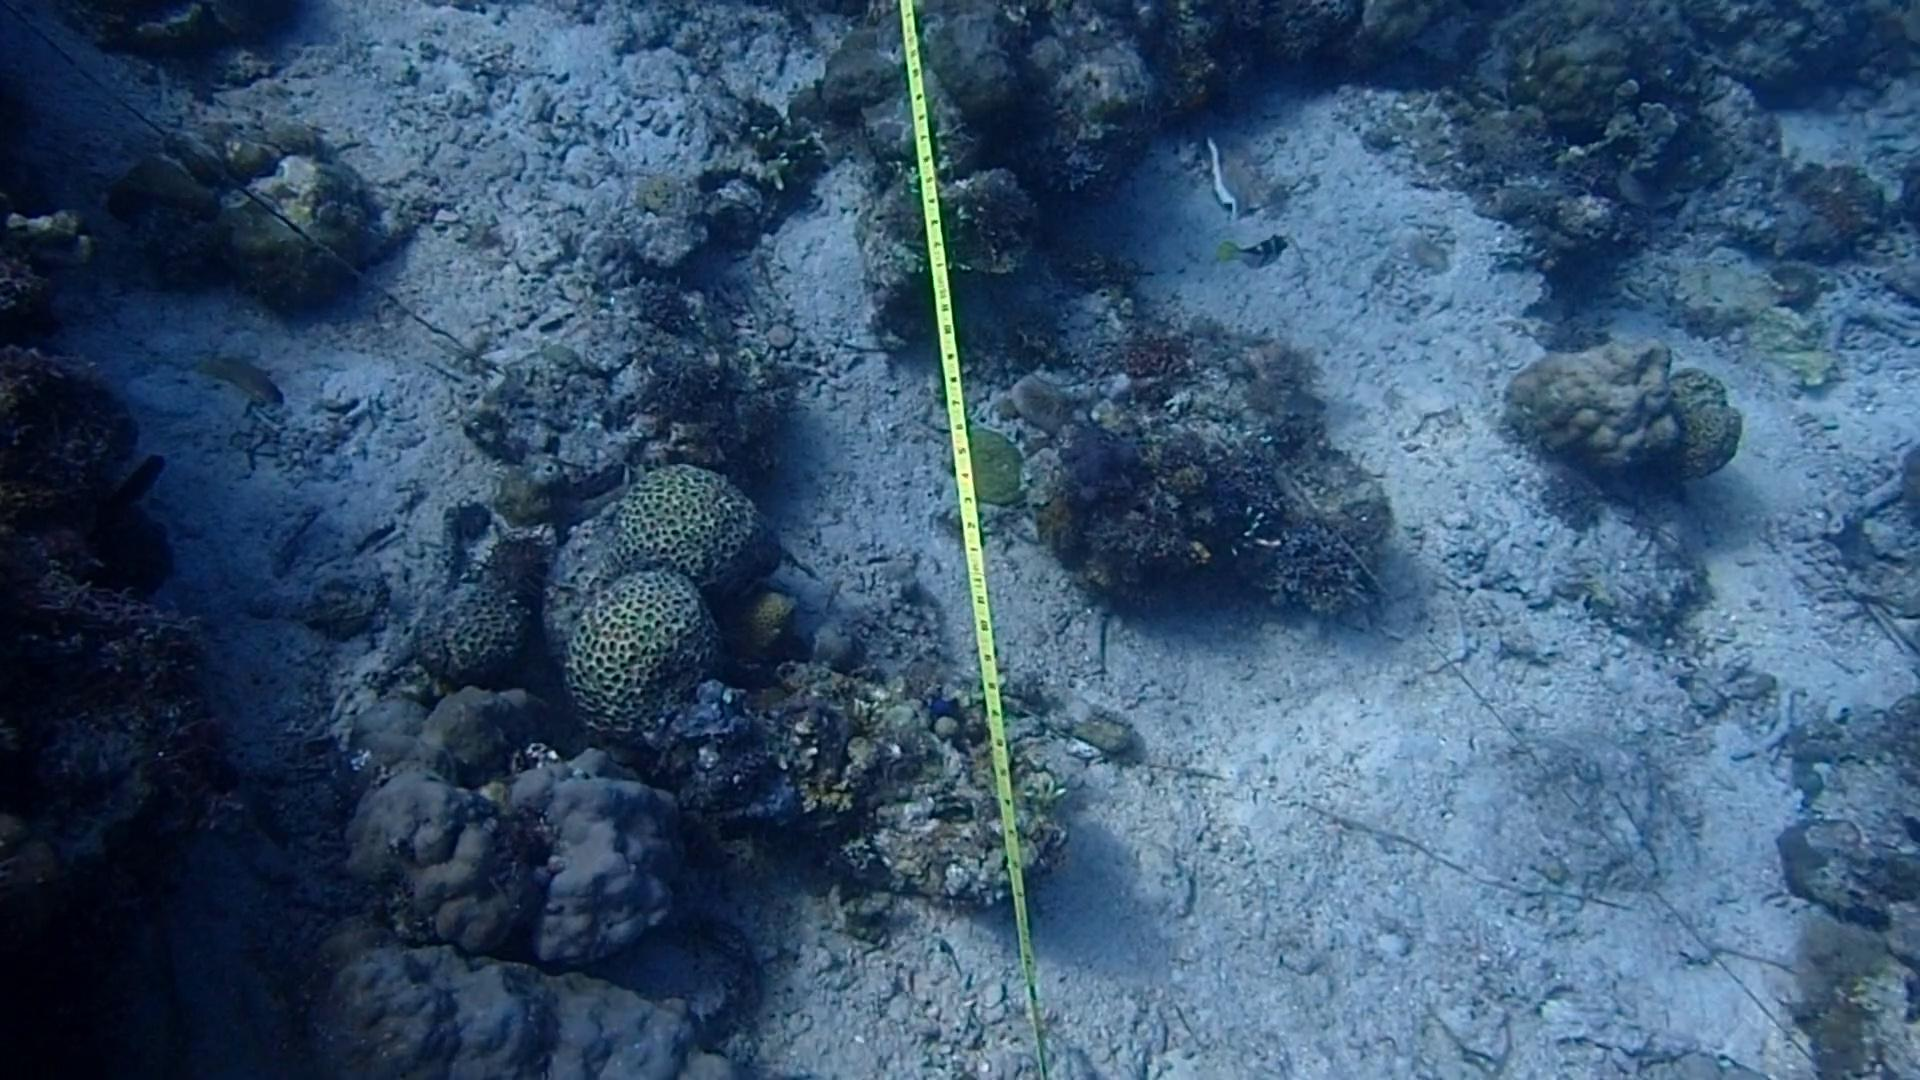Striped Fish: (1225, 231, 1304, 276)
